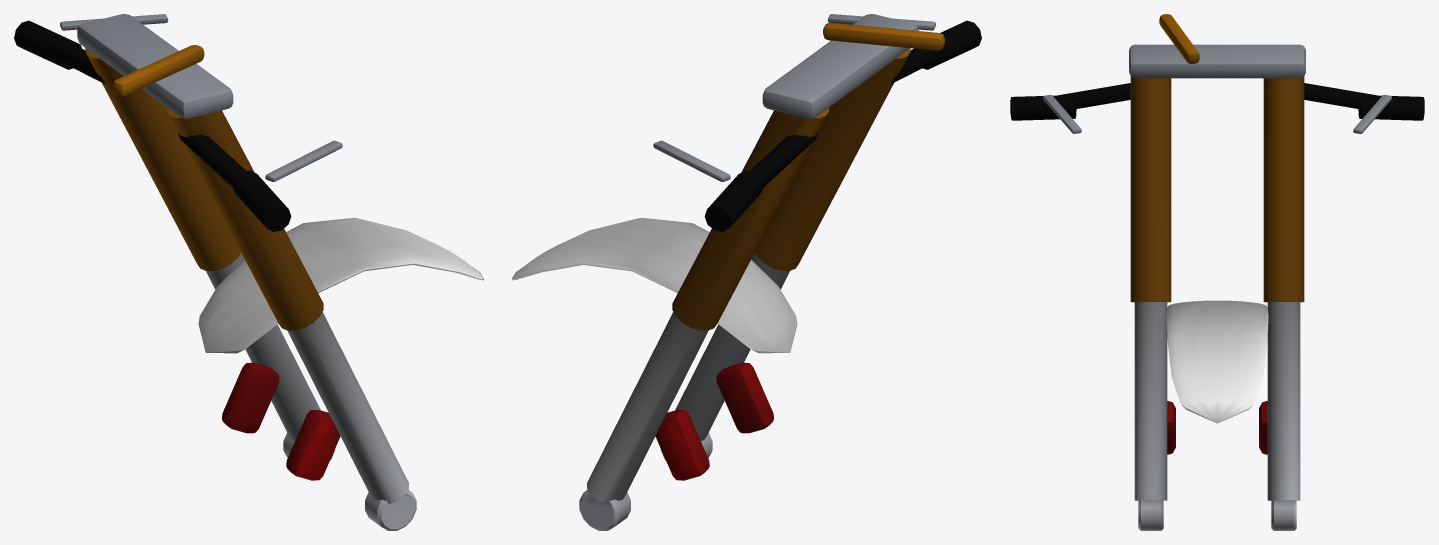
The model's file is bike_strada_front.glb.
The picture shows the model from 3 angles, left to right: view 1: azimuth 30°, elevation 25°; view 2: azimuth 150°, elevation 25°; view 3: azimuth 270°, elevation 25°; orthographic projection. The views are drawn at different scales.
Visible parts, largest first — view 1: bk_fender, bk_forkU-1, bk_forkU1, bk_forkL1, bk_clamp, bk_forkL-1, bk_caliper-1, bk_caliper1, bk_damper, bk_grip1, bk_clipon1, bk_axleclamp1 (+4 smaller); view 2: bk_fender, bk_forkU1, bk_forkU-1, bk_forkL-1, bk_clamp, bk_forkL1, bk_caliper1, bk_caliper-1, bk_damper, bk_grip-1, bk_clipon-1, bk_axleclamp-1 (+3 smaller); view 3: bk_fender, bk_forkU1, bk_forkU-1, bk_forkL1, bk_forkL-1, bk_clamp, bk_grip1, bk_grip-1, bk_clipon1, bk_clipon-1, bk_damper, bk_axleclamp1 (+3 smaller).
Part boxes in pixels (bbox=[...]): bk_fender: bbox=[198, 217, 483, 353]; bk_forkU-1: bbox=[85, 48, 240, 270]; bk_forkU1: bbox=[166, 108, 323, 330]; bk_forkL1: bbox=[287, 312, 409, 503]; bk_clamp: bbox=[77, 14, 233, 118]; bk_forkL-1: bbox=[206, 253, 320, 440]; bk_caliper-1: bbox=[222, 362, 279, 433]; bk_caliper1: bbox=[286, 410, 340, 480]; bk_damper: bbox=[112, 45, 204, 96]; bk_grip1: bbox=[233, 170, 291, 231]; bk_clipon1: bbox=[178, 133, 253, 193]; bk_axleclamp1: bbox=[365, 490, 416, 530]; bk_fender: bbox=[512, 217, 797, 353]; bk_forkU1: bbox=[755, 48, 910, 270]; bk_forkU-1: bbox=[672, 108, 829, 330]; bk_forkL-1: bbox=[586, 312, 708, 503]; bk_clamp: bbox=[762, 14, 918, 118]; bk_forkL1: bbox=[675, 253, 789, 440]; bk_caliper1: bbox=[716, 362, 773, 433]; bk_caliper-1: bbox=[655, 410, 709, 480]; bk_damper: bbox=[823, 22, 944, 50]; bk_grip-1: bbox=[704, 170, 762, 231]; bk_clipon-1: bbox=[742, 133, 817, 193]; bk_axleclamp-1: bbox=[579, 490, 630, 530]; bk_fender: bbox=[1166, 300, 1268, 423]; bk_forkU1: bbox=[1130, 76, 1171, 302]; bk_forkU-1: bbox=[1263, 76, 1304, 302]; bk_forkL1: bbox=[1134, 302, 1167, 500]; bk_forkL-1: bbox=[1267, 302, 1300, 500]; bk_clamp: bbox=[1129, 44, 1305, 78]; bk_grip1: bbox=[1010, 95, 1076, 120]; bk_grip-1: bbox=[1358, 95, 1424, 120]; bk_clipon1: bbox=[1055, 83, 1130, 109]; bk_clipon-1: bbox=[1304, 83, 1379, 109]; bk_damper: bbox=[1159, 14, 1199, 63]; bk_axleclamp1: bbox=[1138, 500, 1163, 530].
Size of the model in its own units: 0.5909 by 0.716 by 0.6548.
